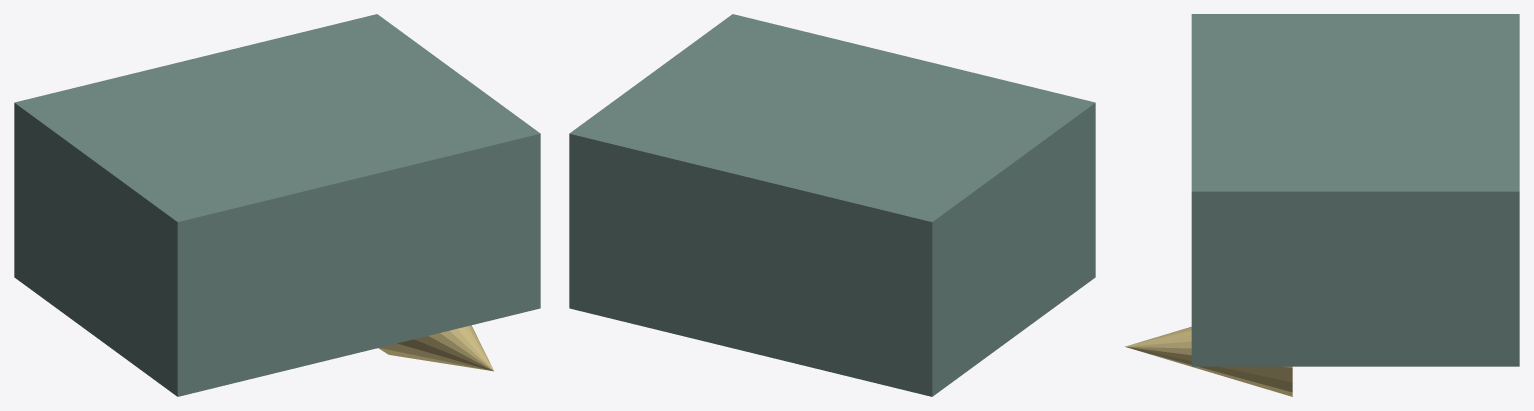
Rendered from resume-terminal-high.glb.
3 views of the same model, side by side, from view 1: azimuth 30°, elevation 25°; view 2: azimuth 150°, elevation 25°; view 3: azimuth 270°, elevation 25° (orthographic).
Visible parts, largest first — view 1: body, resume-arrow; view 2: body; view 3: body, resume-arrow.
Part boxes in pixels (x1,y1,x2,y2): body: [14, 14, 540, 396]; resume-arrow: [378, 325, 493, 371]; body: [569, 14, 1095, 396]; body: [1191, 14, 1519, 366]; resume-arrow: [1125, 327, 1292, 396].
Size of the model in its own units: 1 by 0.6282 by 0.94.
